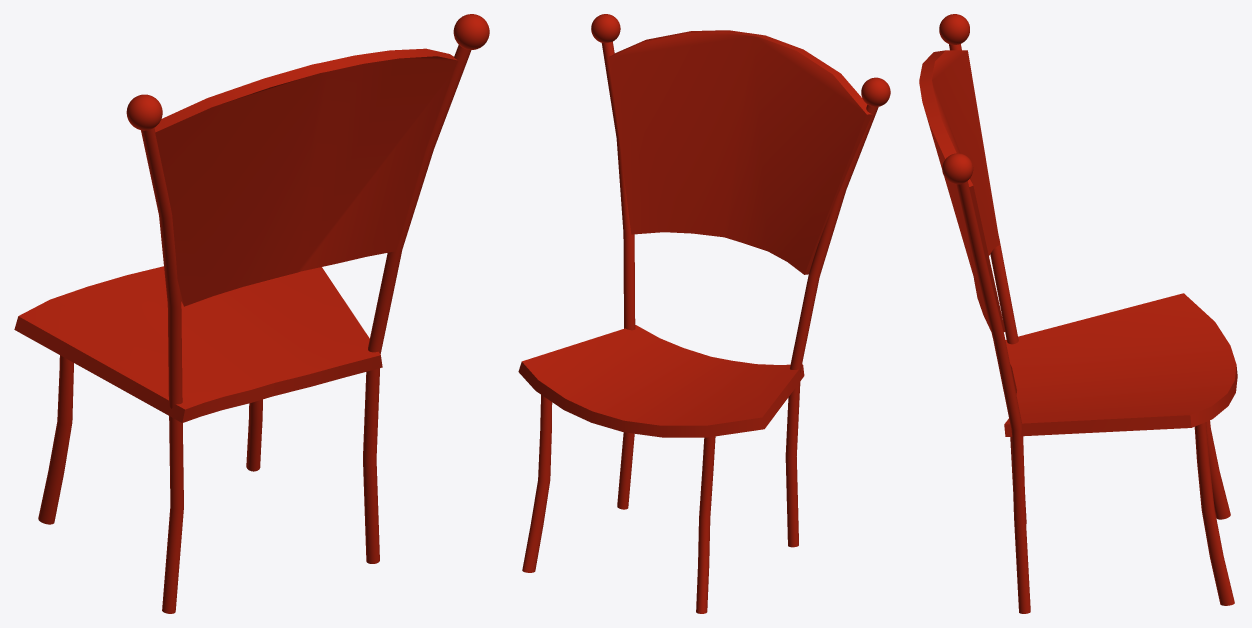
File: sillaLateral.obj
3 renders of one model, left to right at view 1: azimuth 30°, elevation 25°; view 2: azimuth 150°, elevation 25°; view 3: azimuth 270°, elevation 25°, orthographic. The views are drawn at different scales.
Parts seen in each view (by area): view 1: silla3:polySurface252 group59; view 2: silla3:polySurface252 group59; view 3: silla3:polySurface252 group59.
Part boxes in pixels (<box>): silla3:polySurface252 group59: <box>14,14,489,613</box>; silla3:polySurface252 group59: <box>518,14,890,613</box>; silla3:polySurface252 group59: <box>919,14,1237,613</box>.
Bounding box in the file's own units: 0.6606 × 0.9897 × 0.5865.
Materials: 1 (1 with a texture image).
